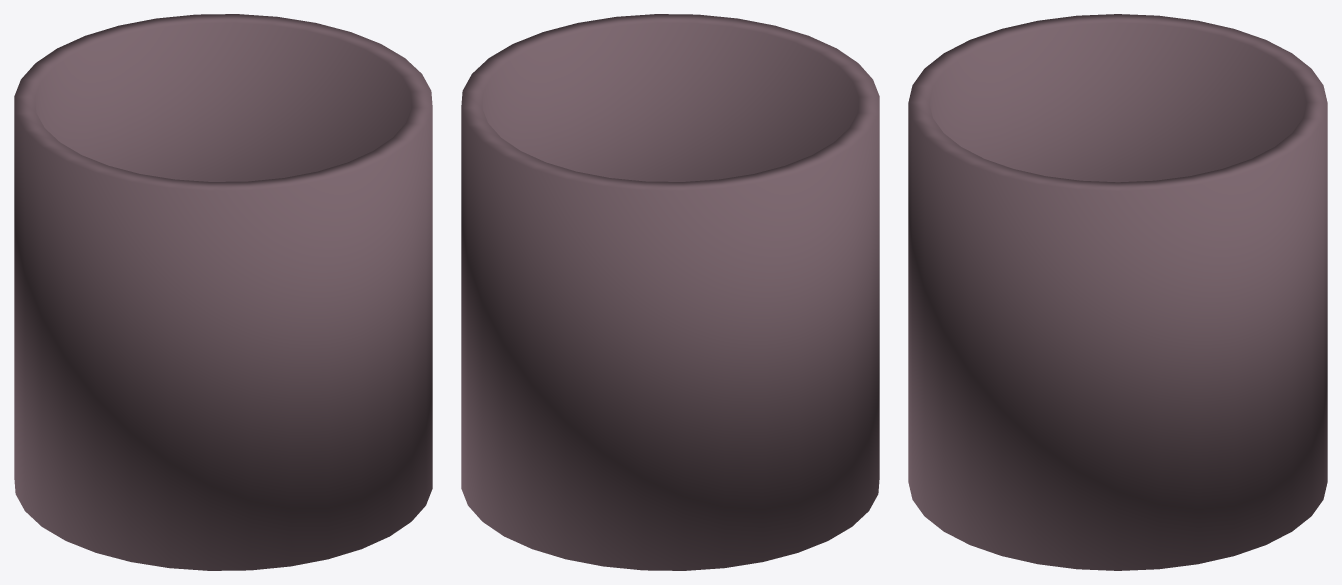
File: HollowWall.fbx
3 renders of one model, left to right at view 1: azimuth 30°, elevation 25°; view 2: azimuth 150°, elevation 25°; view 3: azimuth 270°, elevation 25°, orthographic.
Parts seen in each view (by area): view 1: Cylinder; view 2: Cylinder; view 3: Cylinder.
Part boxes in pixels (x1,y1,x2,y2): Cylinder: [14, 14, 432, 570]; Cylinder: [461, 14, 879, 570]; Cylinder: [908, 14, 1327, 570].
Size of the model in its own units: 200 by 200 by 200.
